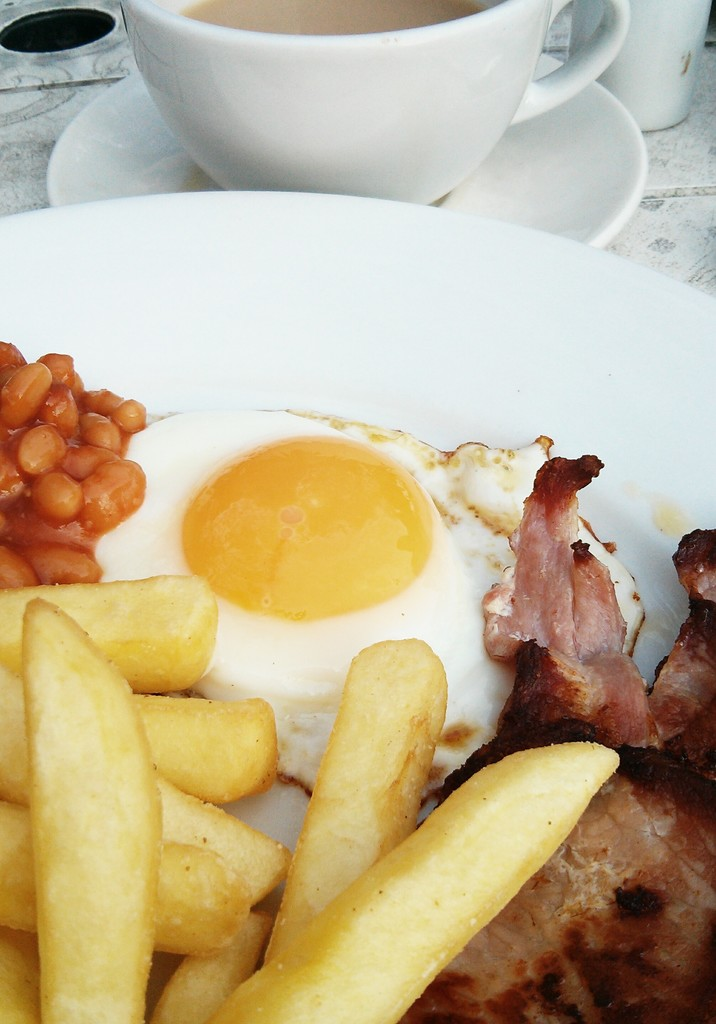french_fries: (0, 564, 628, 1023)
